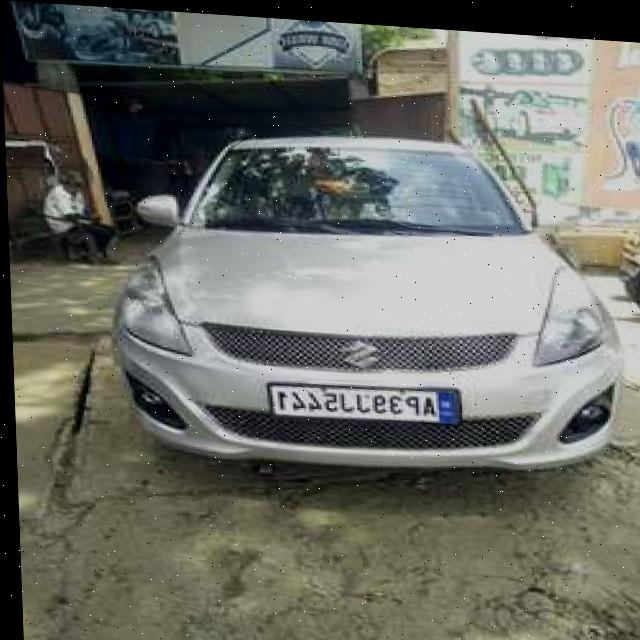plate: (265, 372, 460, 423)
